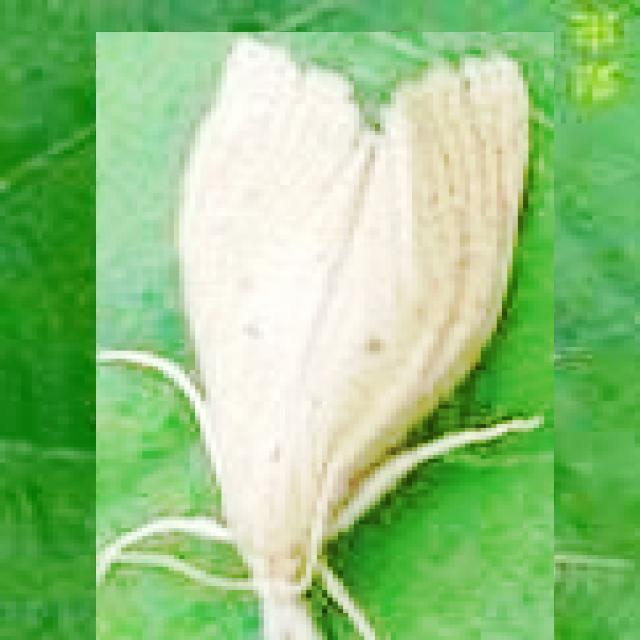stem-borer: (96, 32, 554, 640)
